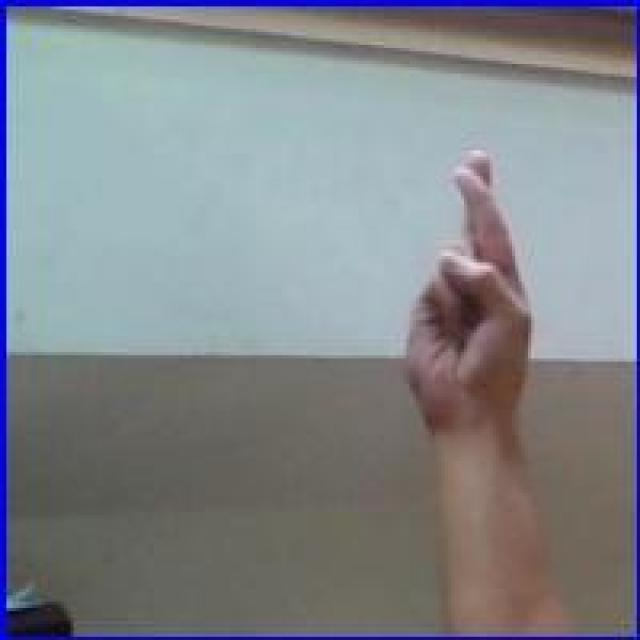R: (400, 146, 538, 420)
